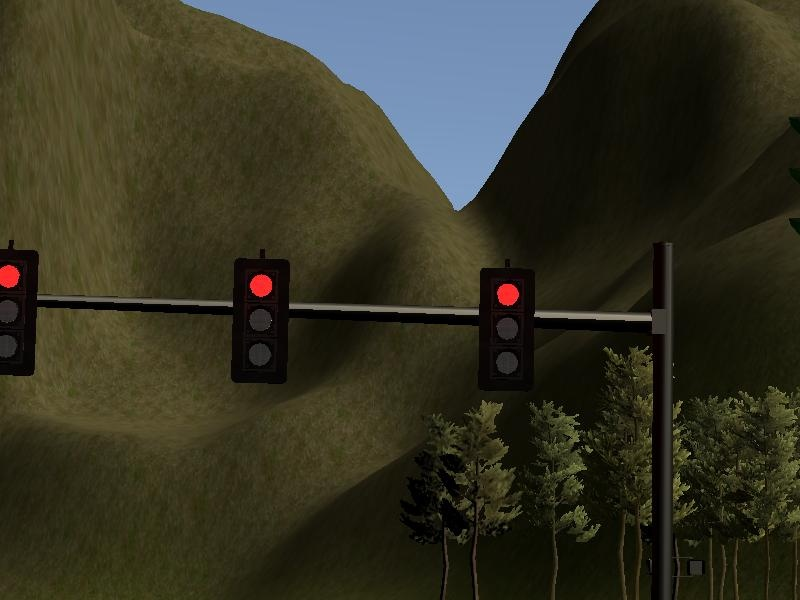red: (226, 249, 292, 386), (476, 260, 536, 397), (1, 248, 48, 377)
